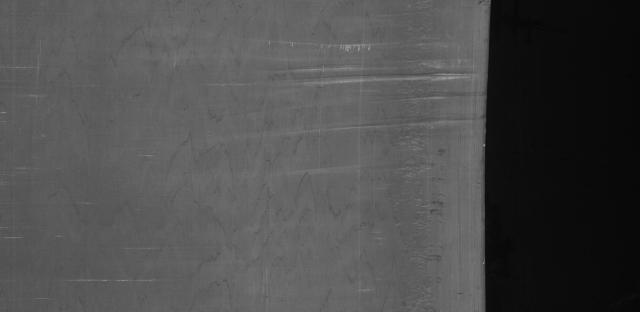crease: (264, 62, 467, 86), (299, 115, 468, 135), (369, 90, 473, 106)
